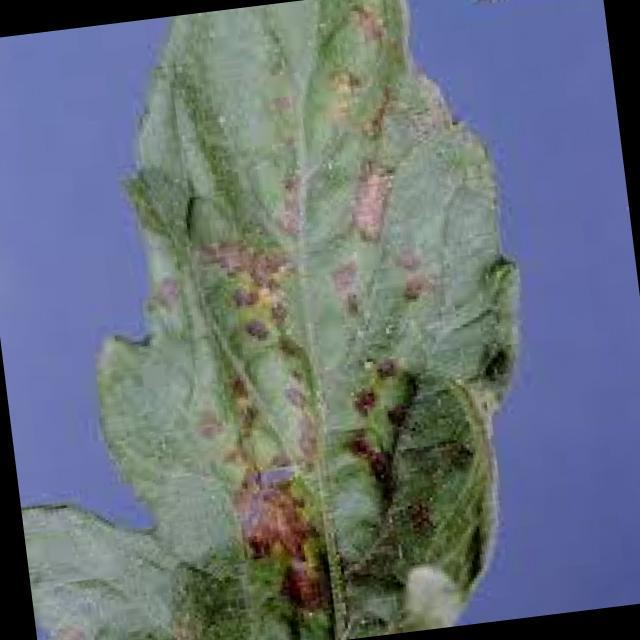Bacterial Spot: (127, 2, 466, 610)
